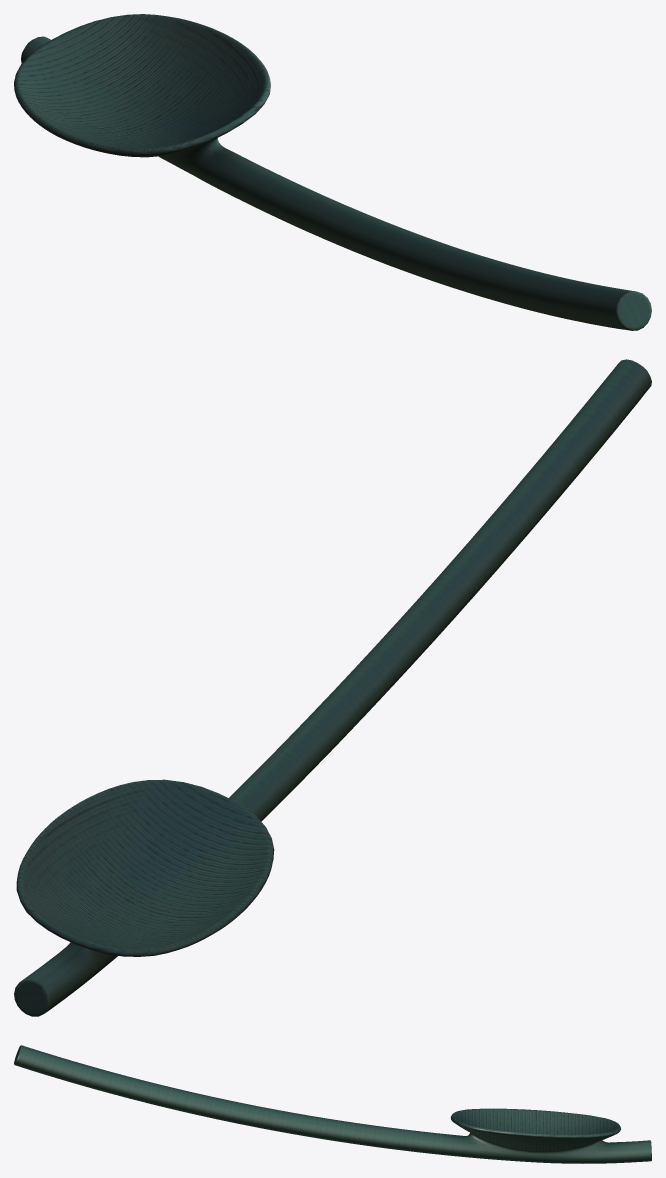
The model's file is 24_CoParasitism.glb.
3 renders of one model, top to bottom at view 1: azimuth 30°, elevation 25°; view 2: azimuth 150°, elevation 25°; view 3: azimuth 270°, elevation 25°, orthographic. The views are drawn at different scales.
Visible parts, largest first — view 1: 24_Co Parasitism; view 2: 24_Co Parasitism; view 3: 24_Co Parasitism.
Part boxes in pixels (left/top/right/bottom): 24_Co Parasitism: left=14, top=14, right=651, bottom=330; 24_Co Parasitism: left=14, top=359, right=651, bottom=1016; 24_Co Parasitism: left=14, top=1045, right=651, bottom=1163.
Size of the model in its own units: 0.0364 by 0.0408 by 0.2038.
Materials: 1 (1 with a texture image).
